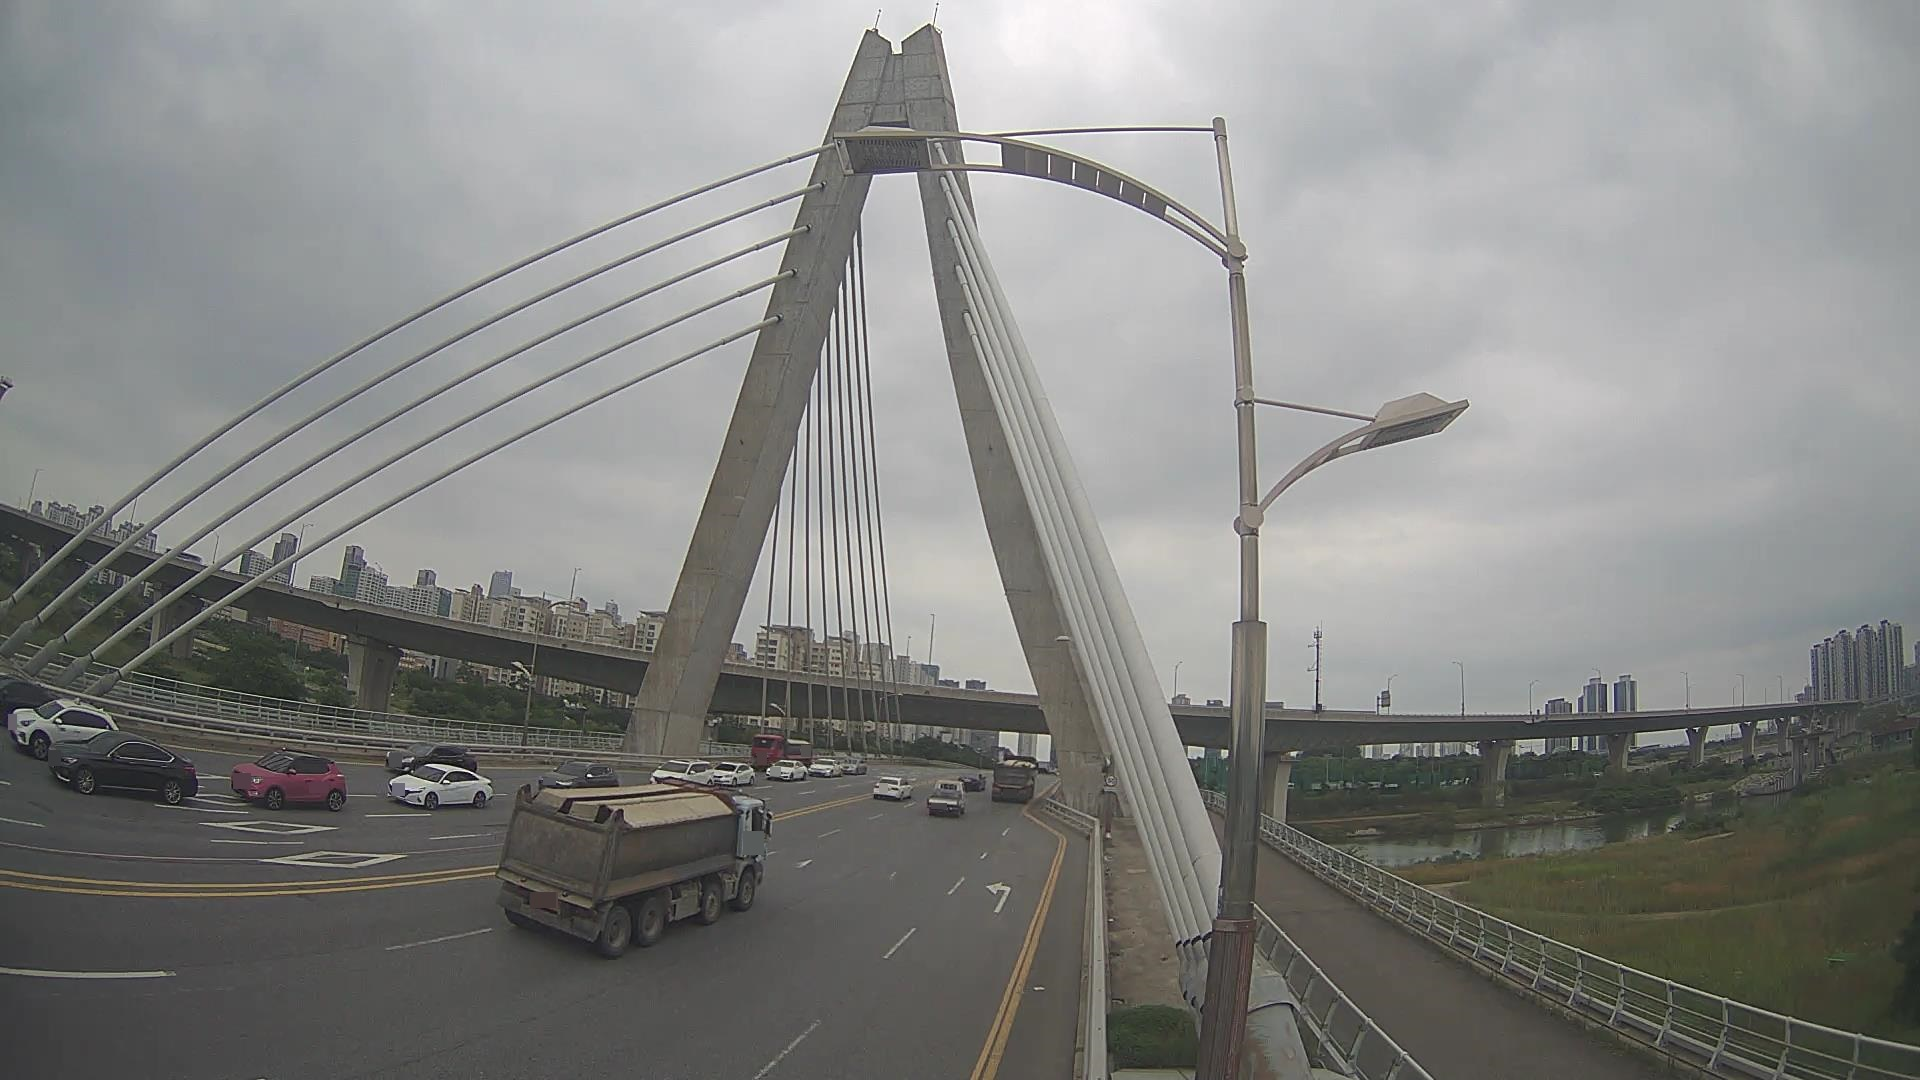정상차량: (496, 775, 774, 959)
